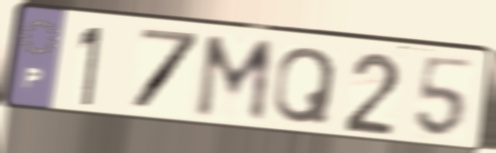1: (76, 24, 104, 109)
2: (342, 47, 404, 139)
5: (411, 53, 480, 144)
7: (133, 25, 204, 118)
M: (191, 33, 278, 128)
Q: (270, 44, 340, 127)
